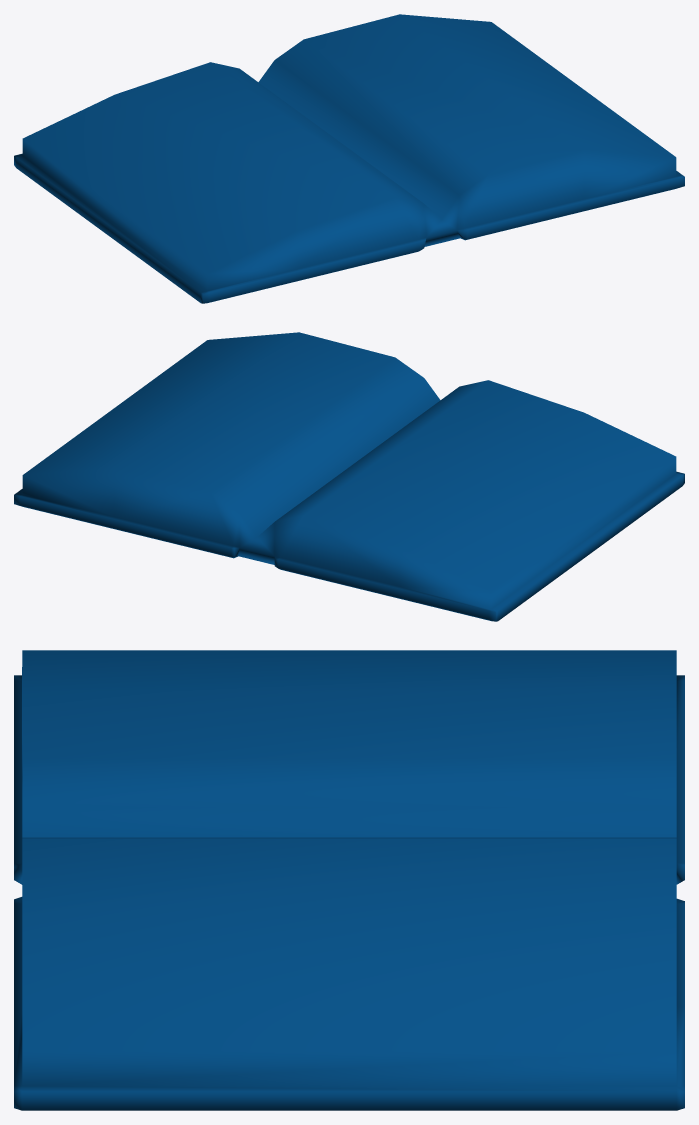
The model's file is Book_Open_01.fbx.
3 renders of one model, top to bottom at view 1: azimuth 30°, elevation 25°; view 2: azimuth 150°, elevation 25°; view 3: azimuth 270°, elevation 25°, orthographic. The views are drawn at different scales.
Visible parts, largest first — view 1: Book_Open_01; view 2: Book_Open_01; view 3: Book_Open_01.
Boxes of the visible parts, x1=… form: Book_Open_01: x1=14, y1=14, x2=684, y2=303; Book_Open_01: x1=14, y1=332, x2=684, y2=621; Book_Open_01: x1=14, y1=650, x2=684, y2=1110.
Bounding box in the file's own units: 46.77 × 5.72 × 31.85.
